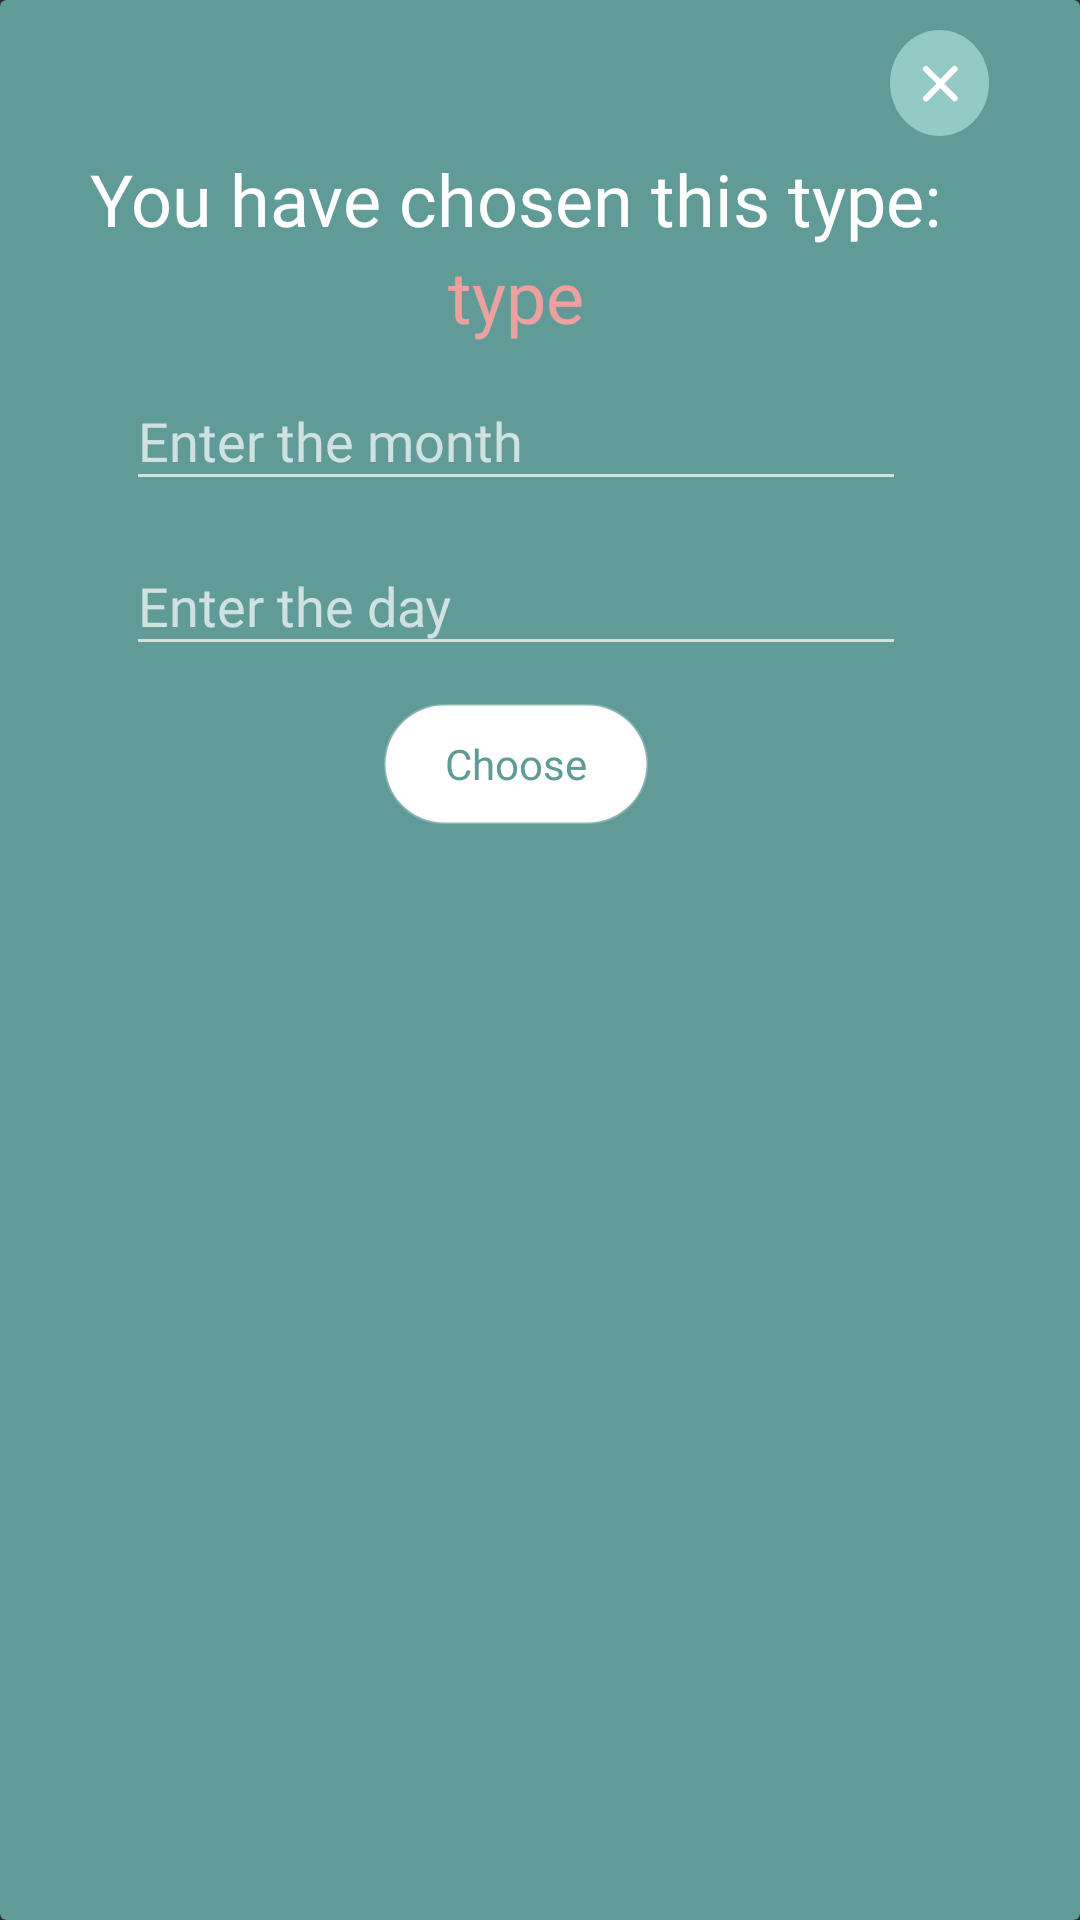

Screen size 1080px x 1920px. Icon name, then its center in pixels as point (x, y):
close: point (939, 83)
